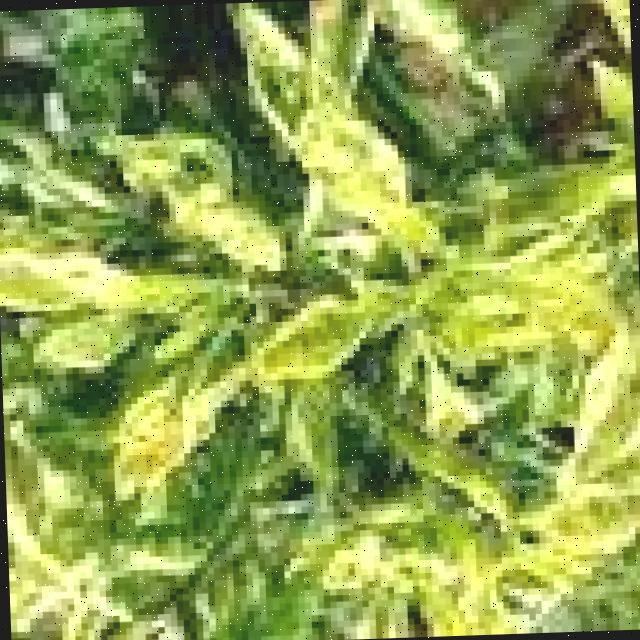yellow: (43, 61, 640, 640)
